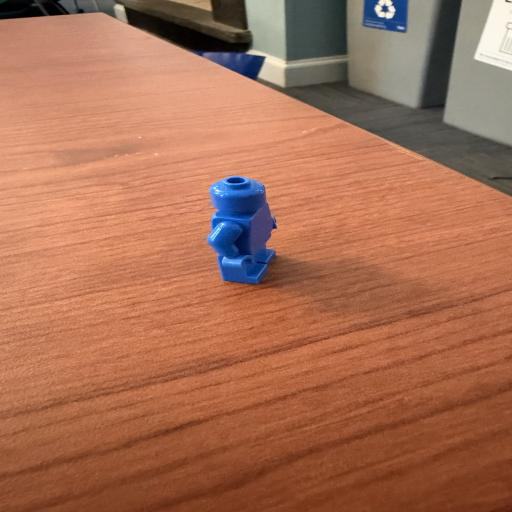blue_minifig: (207, 175, 278, 285)
